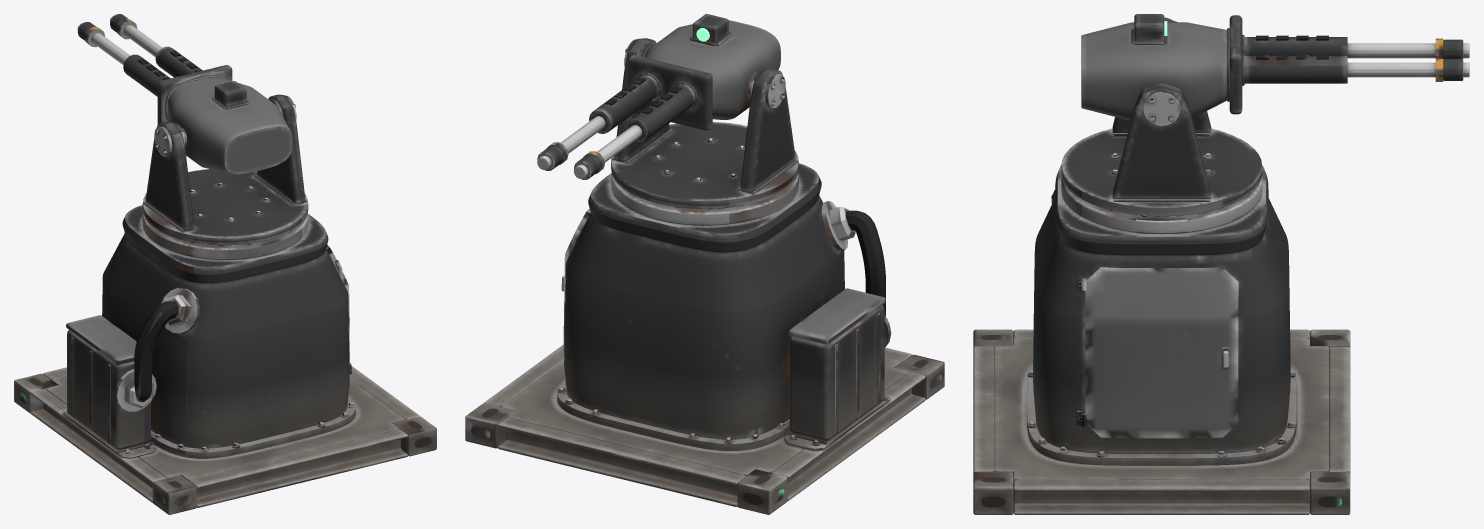
The model's file is SM_TurretGun.glb.
3 renders of one model, left to right at view 1: azimuth 30°, elevation 25°; view 2: azimuth 150°, elevation 25°; view 3: azimuth 270°, elevation 25°, orthographic. The views are drawn at different scales.
Parts seen in each view (by area): view 1: SM_TurretGun, SM_TurretGun_Head, SM_TurretGun_Cradle, SM_TurretGun_Barrels; view 2: SM_TurretGun, SM_TurretGun_Head, SM_TurretGun_Cradle, SM_TurretGun_Barrels; view 3: SM_TurretGun, SM_TurretGun_Cradle, SM_TurretGun_Head, SM_TurretGun_Barrels.
Part boxes in pixels (bbox=[...]): SM_TurretGun: bbox=[14, 205, 436, 514]; SM_TurretGun_Head: bbox=[142, 94, 308, 245]; SM_TurretGun_Cradle: bbox=[123, 46, 292, 174]; SM_TurretGun_Barrels: bbox=[77, 14, 162, 64]; SM_TurretGun: bbox=[465, 163, 944, 514]; SM_TurretGun_Head: bbox=[611, 38, 798, 208]; SM_TurretGun_Cradle: bbox=[589, 14, 780, 142]; SM_TurretGun_Barrels: bbox=[537, 116, 642, 179]; SM_TurretGun: bbox=[973, 165, 1350, 514]; SM_TurretGun_Cradle: bbox=[1081, 14, 1347, 120]; SM_TurretGun_Head: bbox=[1061, 17, 1262, 216]; SM_TurretGun_Barrels: bbox=[1347, 38, 1469, 81].
Size of the model in its own units: 1.51 by 1.83 by 1.98.
Materials: 7 (6 with a texture image).
